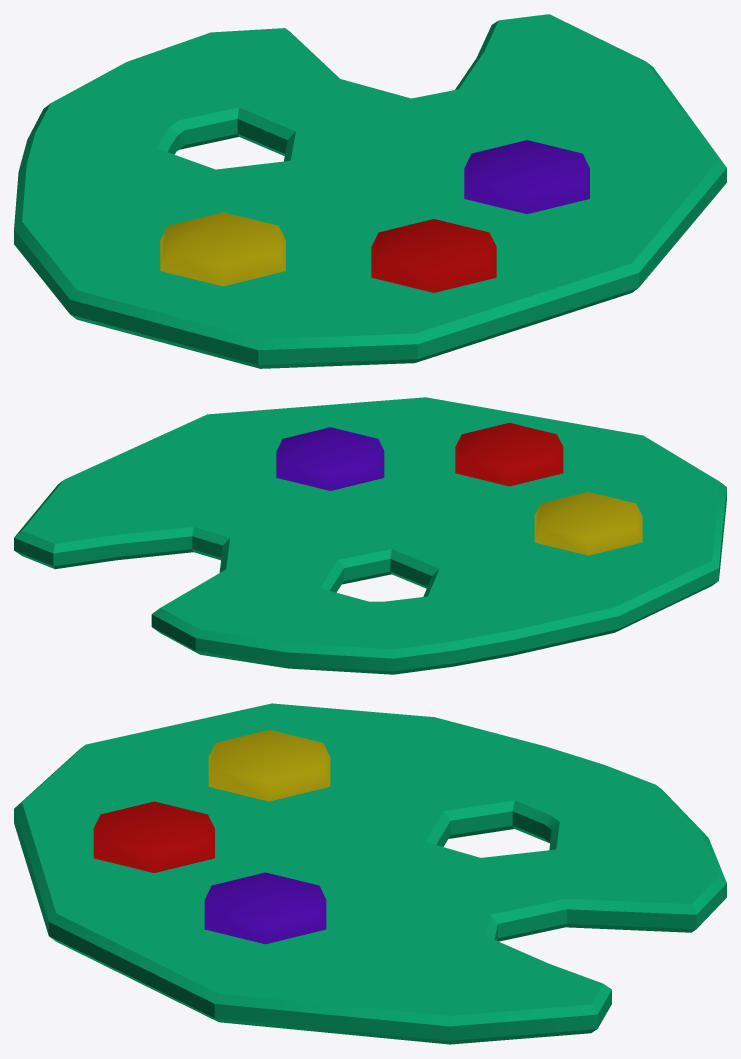
The model's file is palette.fbx.
3 views of the same model, one above another, from view 1: azimuth 30°, elevation 25°; view 2: azimuth 150°, elevation 25°; view 3: azimuth 270°, elevation 25° (orthographic). The views are drawn at different scales.
Visible parts, largest first — view 1: polySurface3, polySurface4, polySurface6, polySurface5; view 2: polySurface3, polySurface4, polySurface6, polySurface5; view 3: polySurface3, polySurface4, polySurface6, polySurface5.
Part boxes in pixels (x1,y1,x2,y2): polySurface3: [14, 14, 726, 368]; polySurface4: [464, 140, 589, 213]; polySurface6: [160, 212, 285, 286]; polySurface5: [371, 219, 496, 292]; polySurface3: [14, 397, 726, 674]; polySurface4: [276, 427, 384, 490]; polySurface6: [534, 492, 642, 555]; polySurface5: [455, 422, 563, 486]; polySurface3: [14, 703, 726, 1044]; polySurface4: [204, 872, 326, 944]; polySurface6: [208, 730, 330, 801]; polySurface5: [93, 801, 214, 872].
Bounding box in the file's own units: 17.23 × 1.12 × 16.26.
